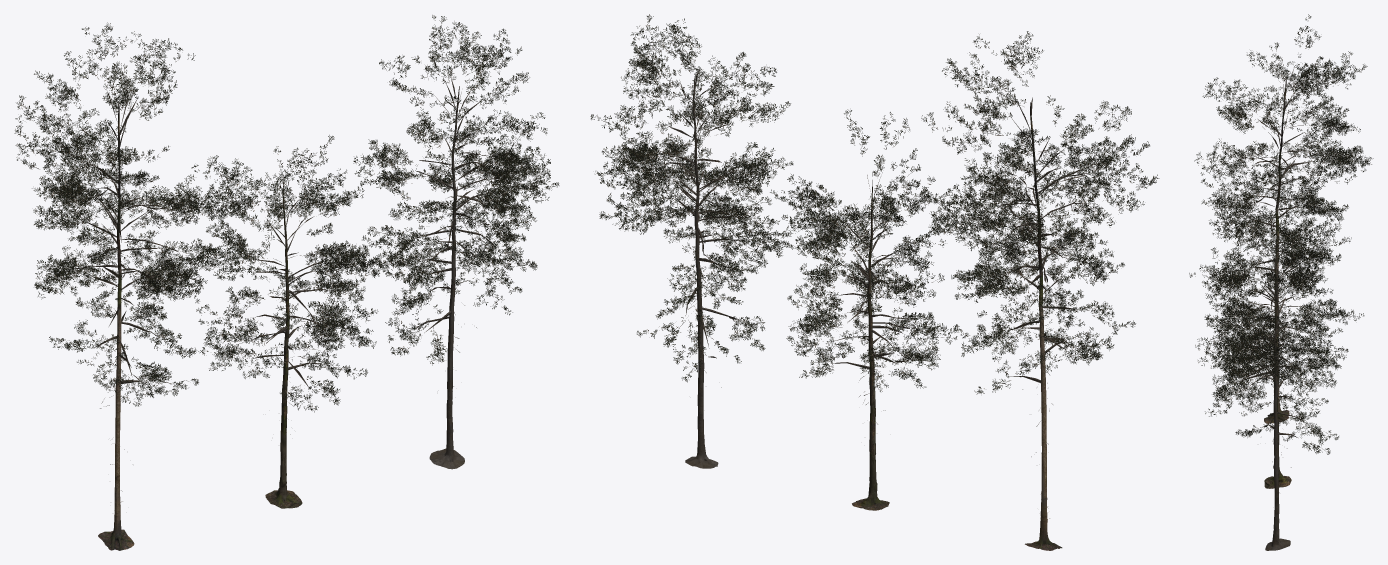
File: pine_tree.glb
The picture shows the model from 3 angles, left to right: view 1: azimuth 30°, elevation 25°; view 2: azimuth 150°, elevation 25°; view 3: azimuth 270°, elevation 25°; orthographic projection. The views are drawn at different scales.
Visible parts, largest first — view 1: pine_tree_01_a_LOD0, pine_tree_01_c_LOD0, pine_tree_01_b_LOD0; view 2: pine_tree_01_a_LOD0, pine_tree_01_c_LOD0, pine_tree_01_b_LOD0; view 3: pine_tree_01_a_LOD0, pine_tree_01_c_LOD0, pine_tree_01_b_LOD0.
Part boxes in pixels (box(x1,y1,x2,y2)): pine_tree_01_a_LOD0: box(14, 22, 239, 550); pine_tree_01_c_LOD0: box(353, 15, 559, 469); pine_tree_01_b_LOD0: box(184, 135, 387, 508); pine_tree_01_a_LOD0: box(921, 31, 1159, 550); pine_tree_01_c_LOD0: box(590, 14, 796, 468); pine_tree_01_b_LOD0: box(770, 109, 959, 510); pine_tree_01_a_LOD0: box(1194, 14, 1373, 423); pine_tree_01_c_LOD0: box(1195, 204, 1364, 550); pine_tree_01_b_LOD0: box(1189, 195, 1351, 488).
Bounding box in the file's own units: 21.79 × 20.32 × 8.51.
6 materials, 6 textured.
